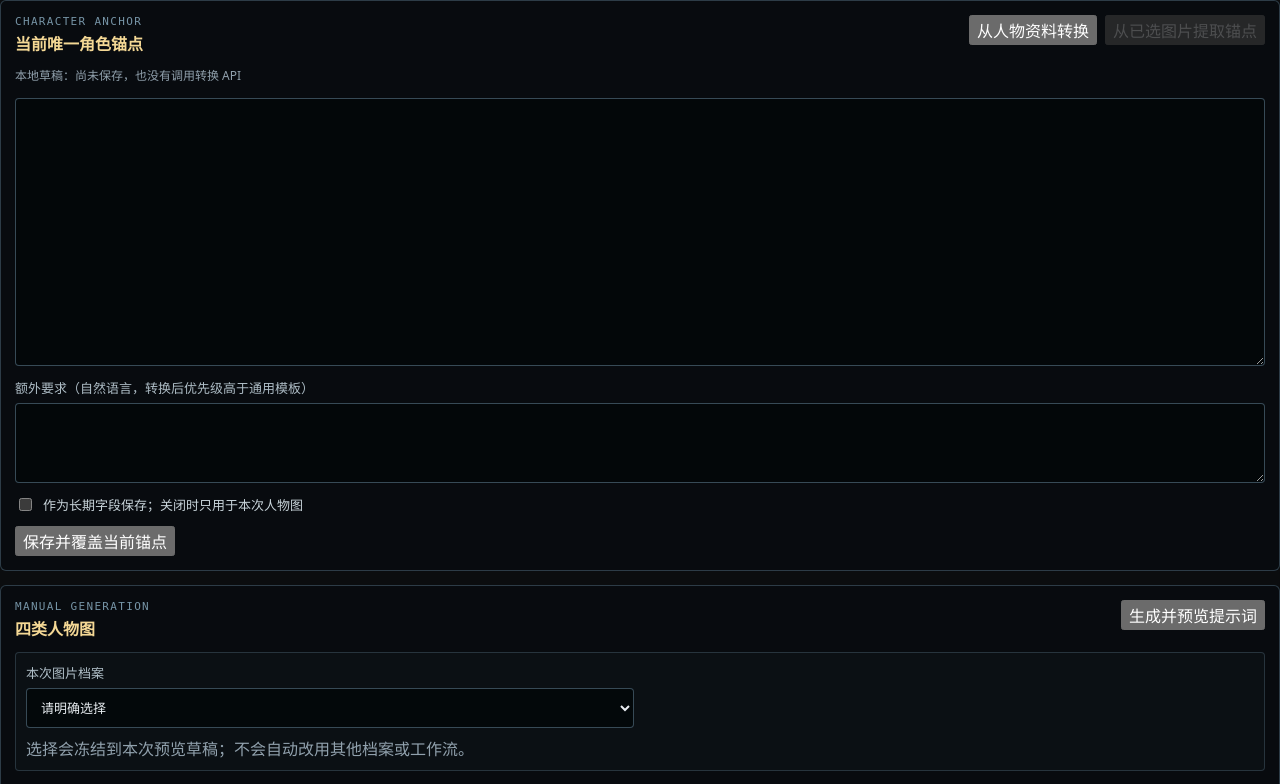
it: CharacterVisualPanel › shows ComfyUI workflow selection and blocks conversion until the workflow is explicit
This screenshot has width=1280, height=784.
Check: the text box named "角色文生图锚点" is shown, box top-left (15, 98), bottom-right (1265, 366)
Click the button "保存并覆盖当前锚点".
click(95, 541)  # box top-left (15, 526), bottom-right (175, 556)
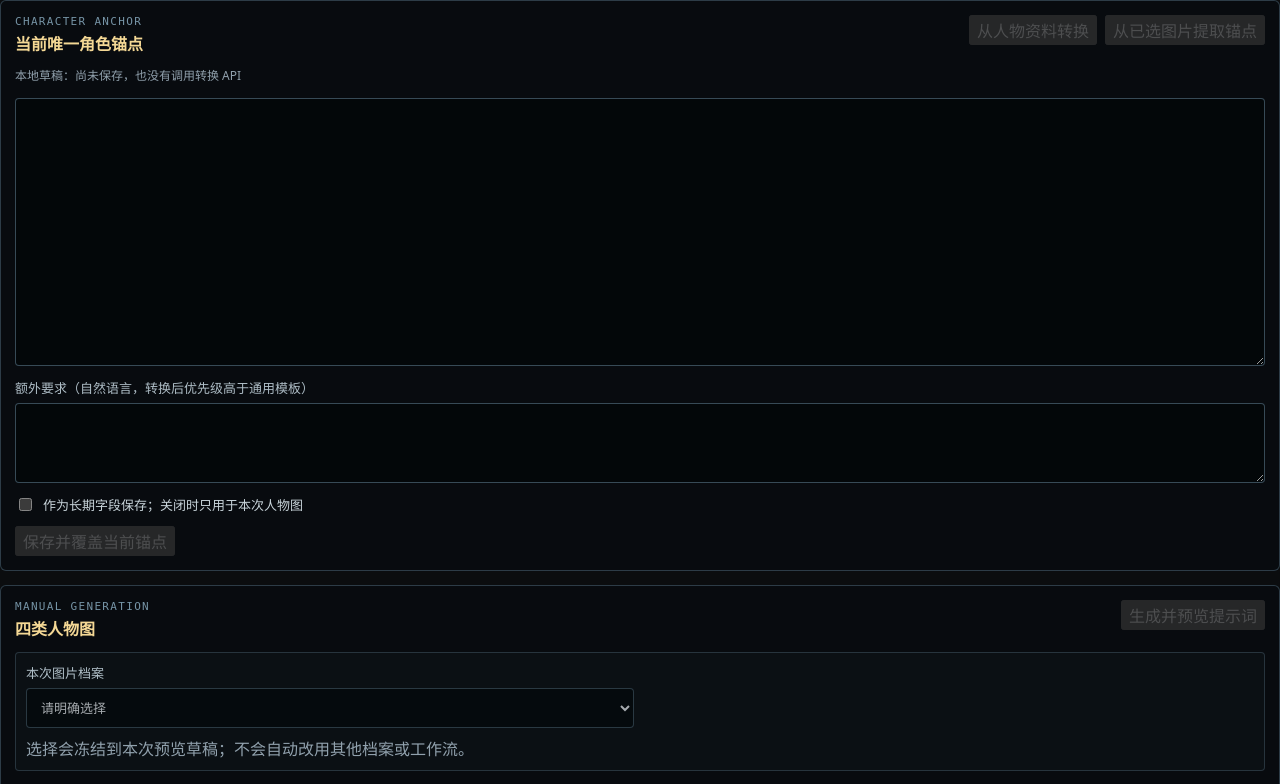
Select "ComfyUI · ComfyUI" in the dropdown named "手动人物图图片档案" at (330, 708), box top-left (26, 688), bottom-right (634, 728)
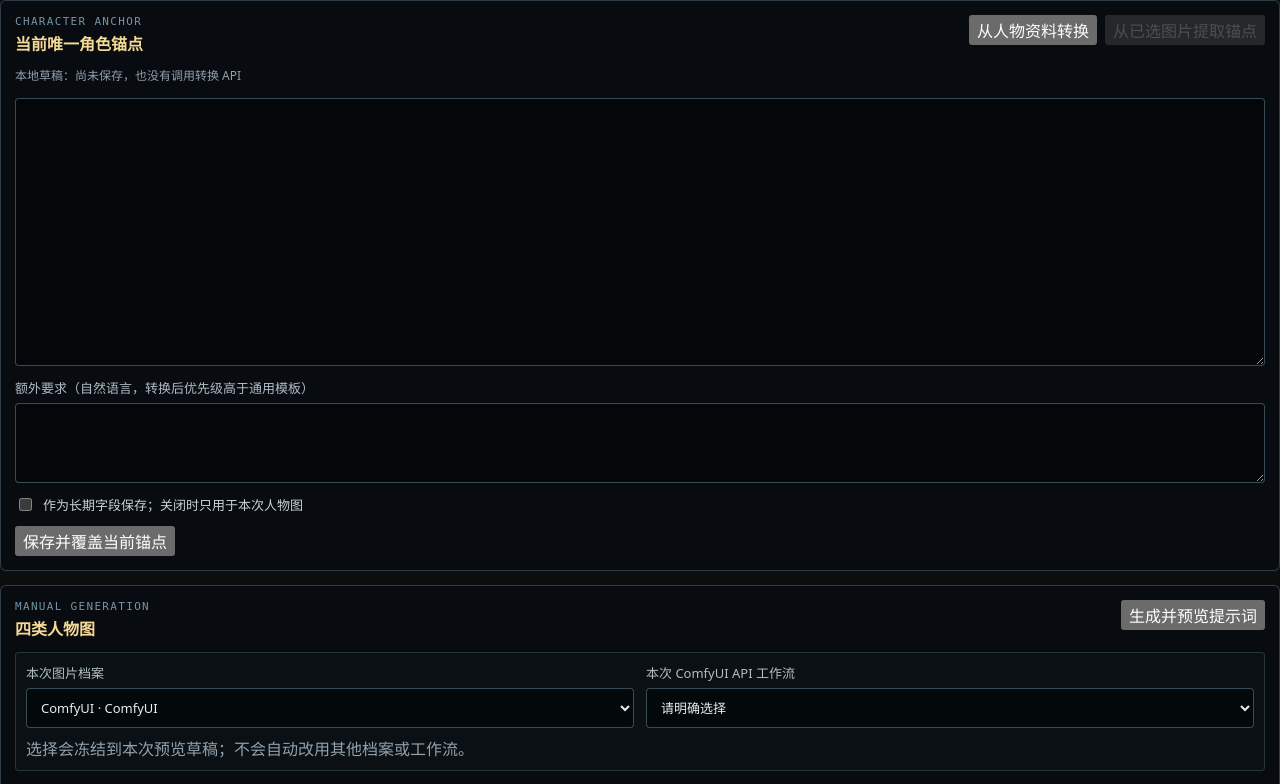
Check: the dropdown named "手动人物图 ComfyUI API 工作流" shows "请明确选择", box top-left (646, 688), bottom-right (1254, 728)
Click the button "生成并预览提示词".
click(1193, 615)  # box top-left (1121, 600), bottom-right (1265, 630)
(page scrolled)
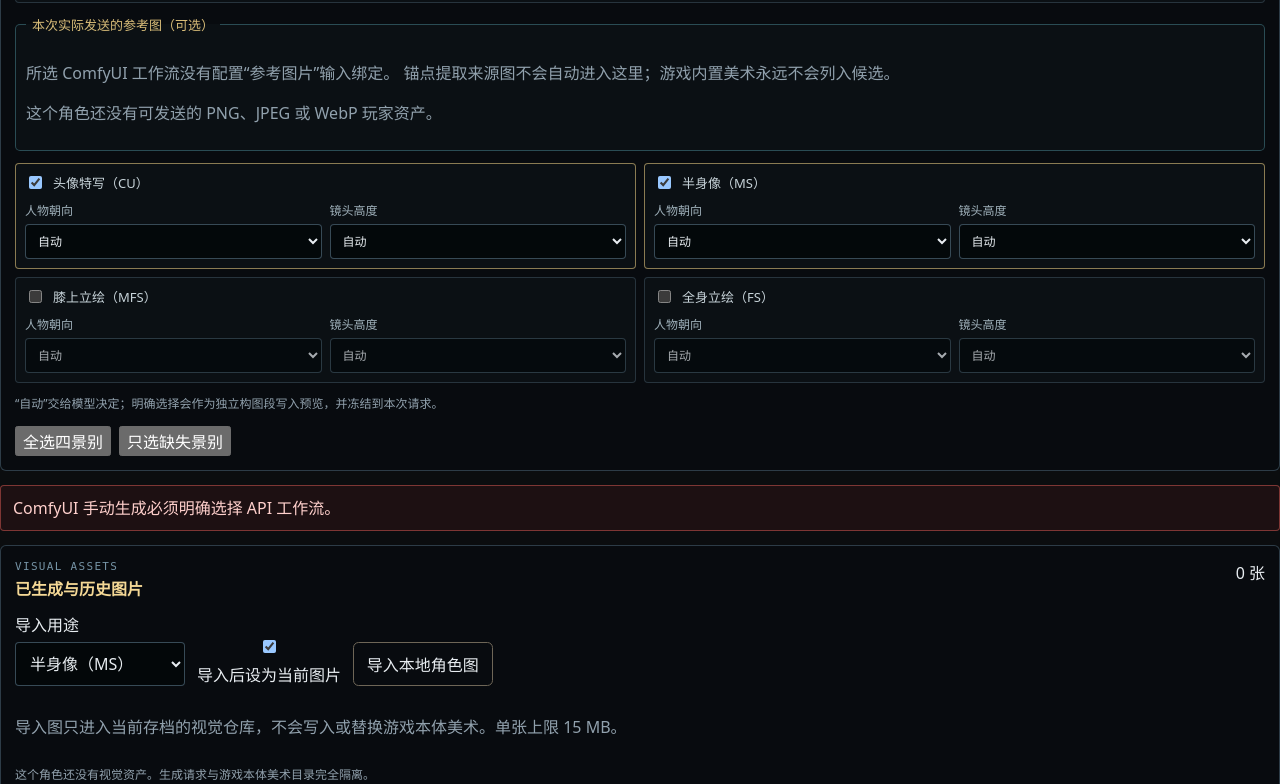
Check: the message shows "明确选择 API 工作流", box top-left (13, 497), bottom-right (340, 519)
